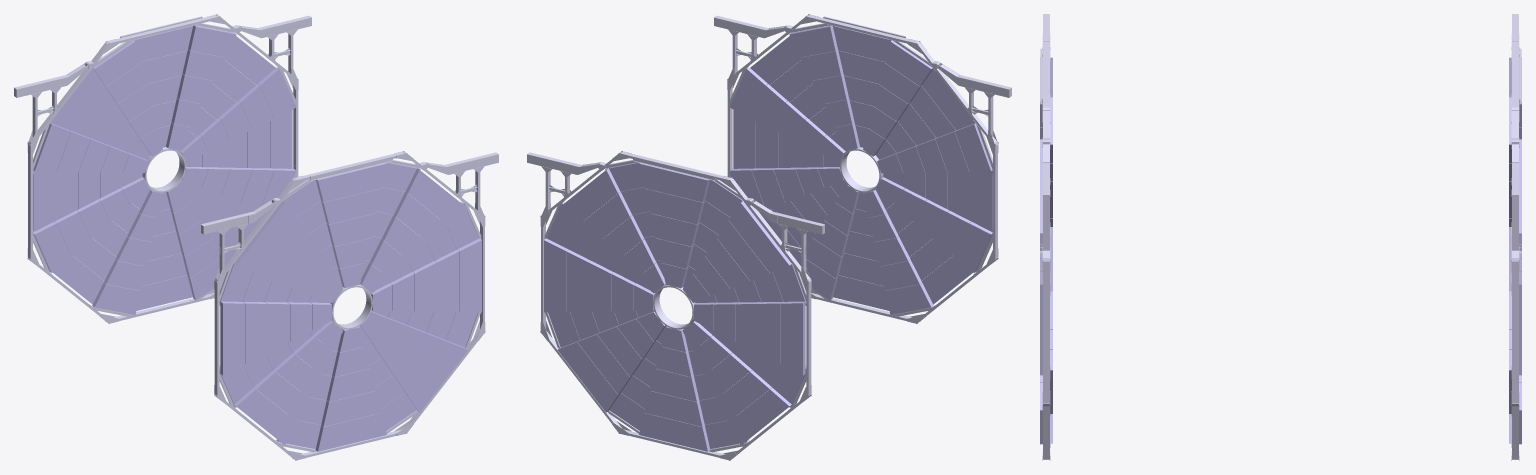
Rendered from Muon-Big-Wheel-MDT.gltf.
The picture shows the model from 3 angles, left to right: view 1: azimuth 30°, elevation 25°; view 2: azimuth 150°, elevation 25°; view 3: azimuth 270°, elevation 25°; orthographic projection. The views are drawn at different scales.
Visible parts, largest first — view 1: _042D6568, _05423DB8; view 2: _042D6568, _05423DB8; view 3: _05423DB8, _042D6568.
Boxes of the visible parts, x1=… form: _042D6568: x1=33, y1=25, x2=481, y2=451; _05423DB8: x1=14, y1=14, x2=498, y2=460; _042D6568: x1=544, y1=25, x2=992, y2=451; _05423DB8: x1=527, y1=14, x2=1011, y2=460; _05423DB8: x1=1040, y1=14, x2=1521, y2=460; _042D6568: x1=1040, y1=57, x2=1521, y2=444.
Size of the model in its own units: 25.72 by 23.42 by 28.95.
